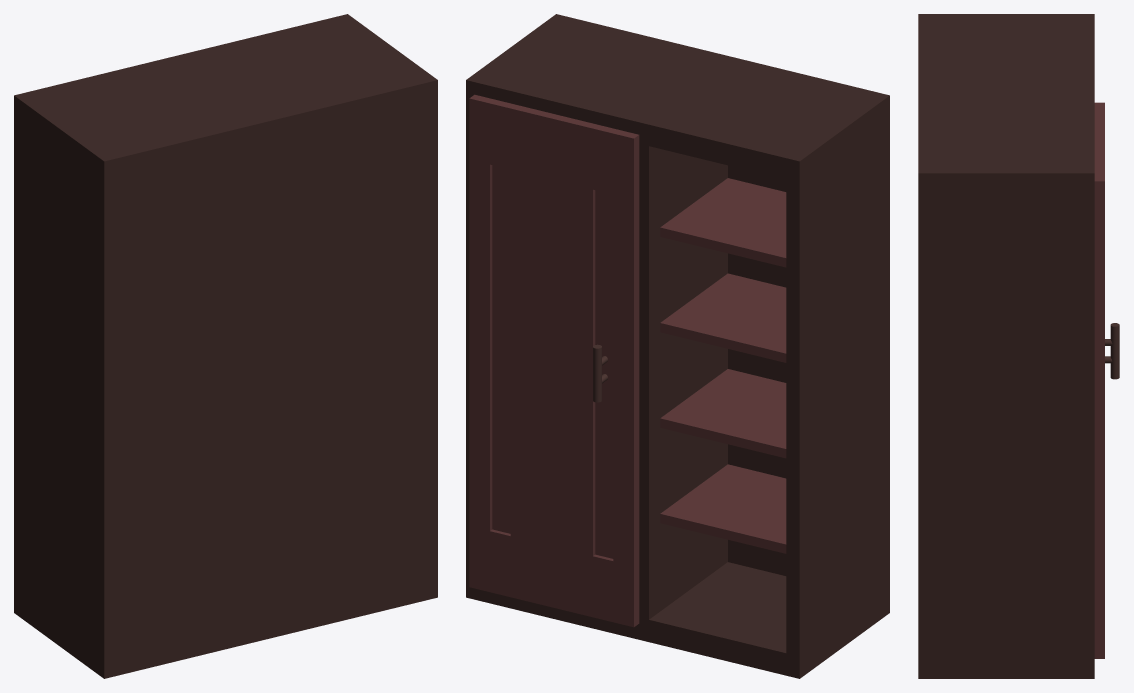
Rendered from Armoire3_5.fbx.
3 views of the same model, side by side, from view 1: azimuth 30°, elevation 25°; view 2: azimuth 150°, elevation 25°; view 3: azimuth 270°, elevation 25° (orthographic). The views are drawn at different scales.
Parts seen in each view (by area): view 1: pCube2359; view 2: pCube2359, pCube2372, pCube2364, pCube2363, pCube2366, pCube2365; view 3: pCube2359, pCube2372, pCylinder1530.
Boxes of the visible parts, <box> form: pCube2359: <box>14,14,437,678</box>; pCube2359: <box>466,14,889,678</box>; pCube2372: <box>469,94,639,627</box>; pCube2364: <box>660,273,786,362</box>; pCube2363: <box>660,178,786,267</box>; pCube2366: <box>660,464,786,553</box>; pCube2365: <box>660,369,786,458</box>; pCube2359: <box>918,14,1094,678</box>; pCube2372: <box>1094,102,1104,658</box>; pCylinder1530: <box>1110,323,1119,379</box>.
Size of the model in its own units: 81.83 by 121 by 43.7.
